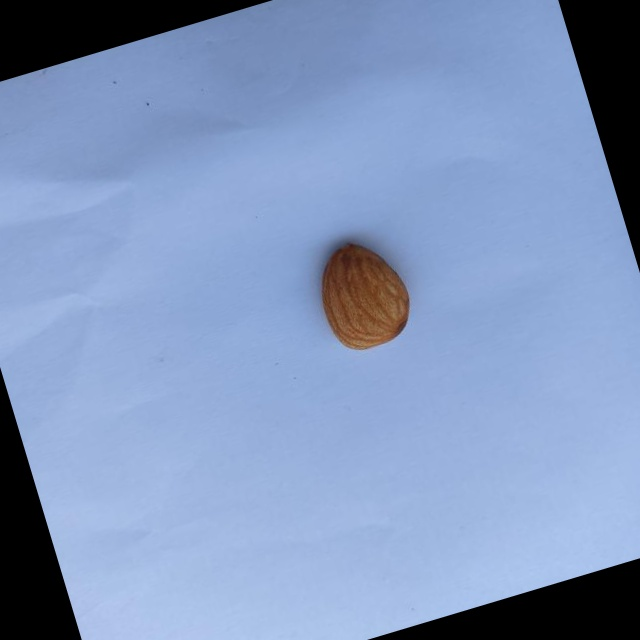grade1: (296, 222, 428, 367)
